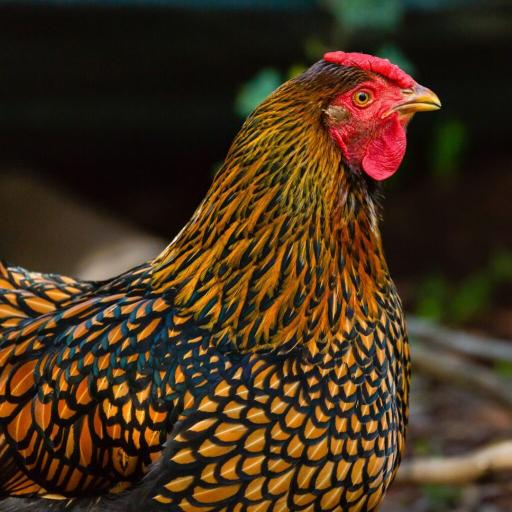healthy: (304, 35, 454, 186)
